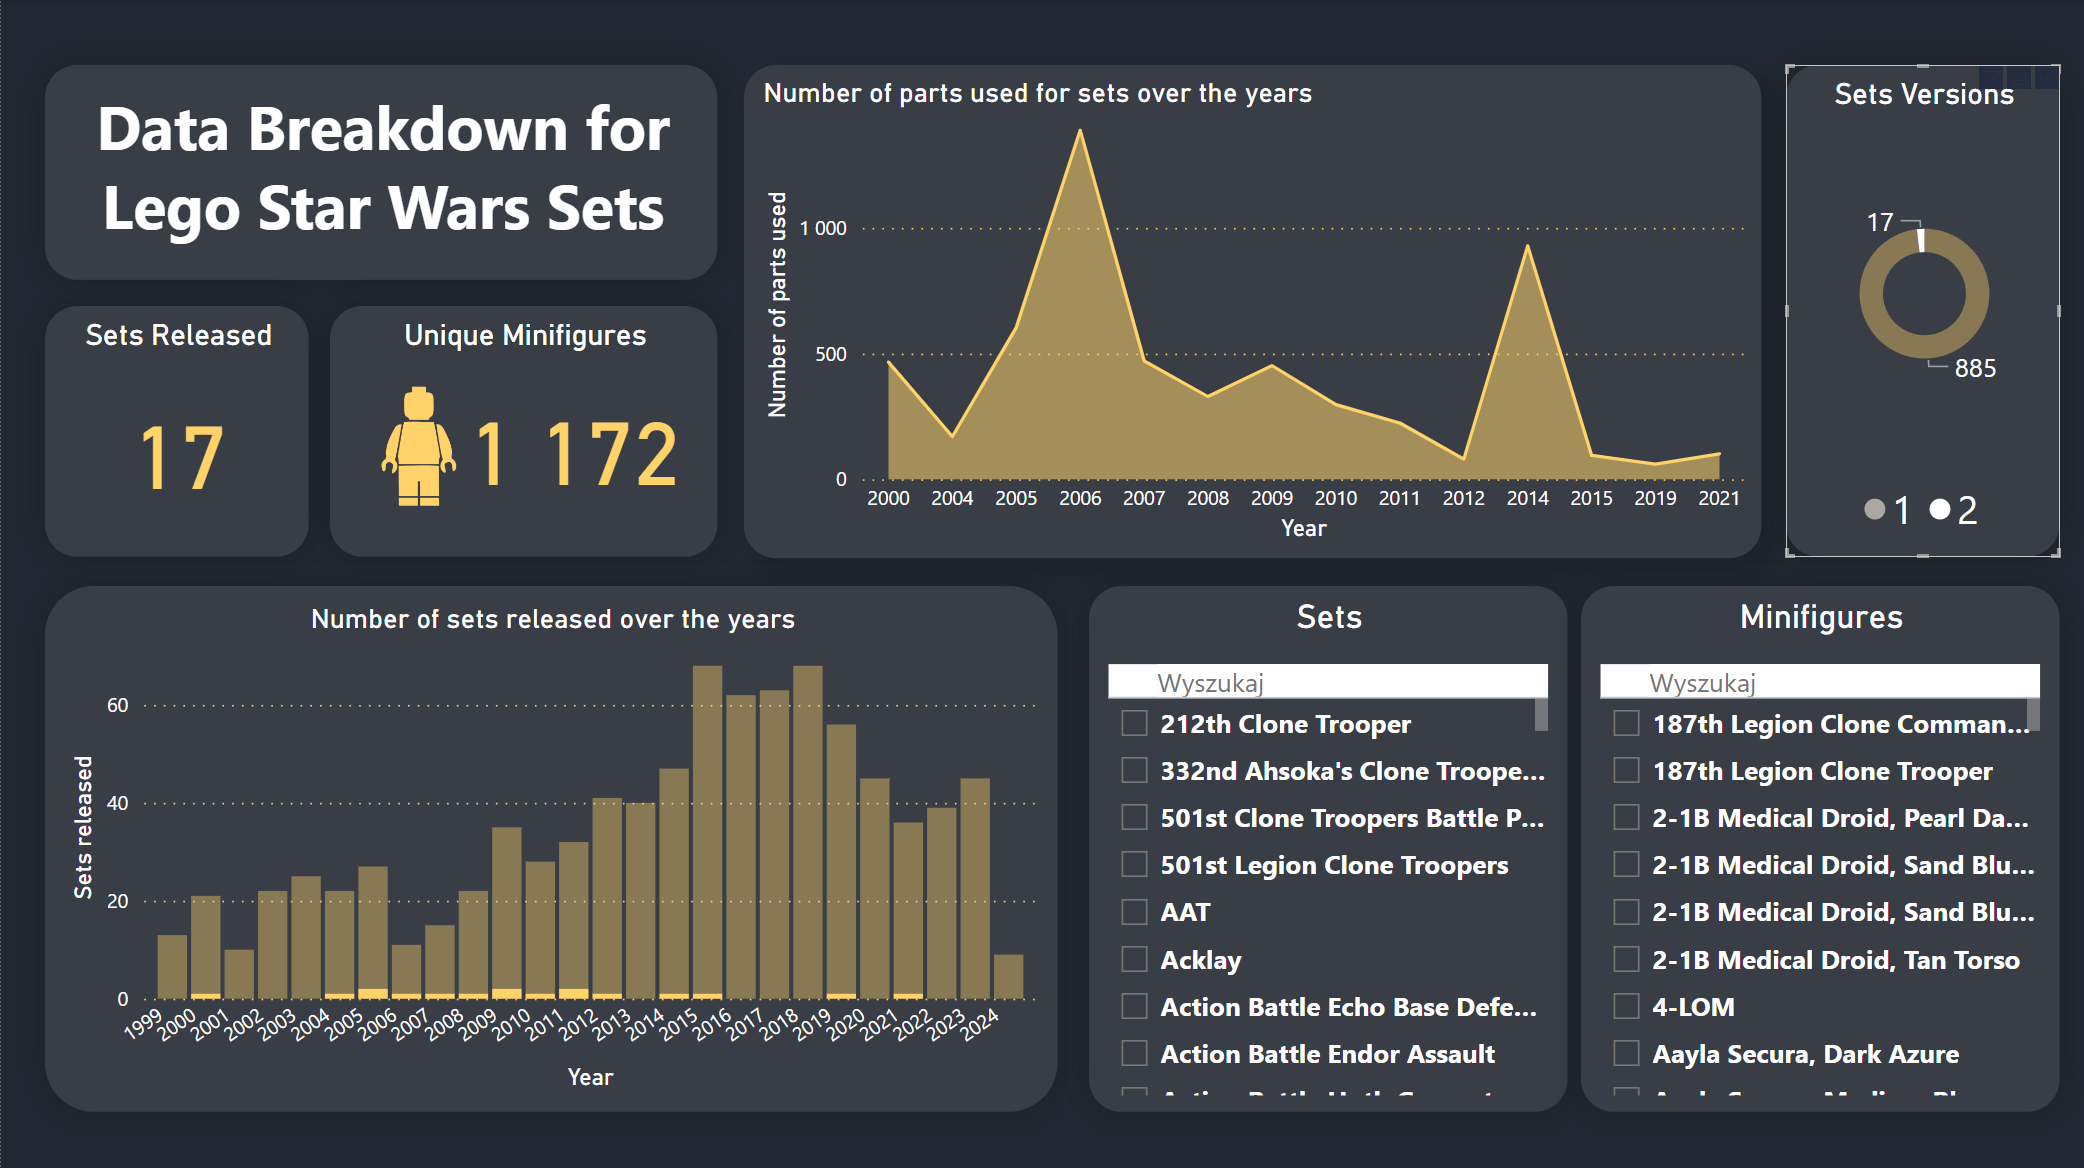

The page's visual inventory and layout, read from the dashboard file:
{"tool":"powerbi","page":{"name":"Strona 1","canvas":[1280,720],"ordinal":0},"visuals":[{"type":"textbox","box":[26.9,40,413.4,132.1],"z":0},{"type":"card","title":"Sets Released","fields":{"Values":["CountNonNull(Inventories.id)"]},"box":[26.9,188.1,162.2,153.6],"z":1000},{"type":"clusteredColumnChart","title":"Number of sets released over the years","fields":{"Category":["Sets.year"],"Y":["CountNonNull(Sets.set_num)"]},"box":[26.9,360.1,622.3,322.5],"z":2000},{"type":"slicer","title":"Sets","fields":{"Values":["Sets.name"]},"box":[668.6,360,293.6,322.9],"z":3000},{"type":"actionButton","box":[-0.1,0.1,100,40],"z":4000},{"type":"cardVisual","title":"Unique Minifigures","fields":{"Data":["CountNonNull(Minifigs.fig_num)"]},"box":[202.4,188.2,238.1,153.8],"z":5000},{"type":"areaChart","title":"Number of parts used for sets over the years","fields":{"Category":["Sets.year"],"Y":["Sum(Sets.num_parts)"]},"box":[456.8,40.1,625,302.5],"z":6000},{"type":"donutChart","title":"Sets Versions","fields":{"Category":["Inventories.version"],"Y":["CountNonNull(Inventories.id)"]},"box":[1096.8,40.1,168.1,301.9],"z":7000},{"type":"slicer","title":"Minifigures","fields":{"Values":["Minifigs.name"]},"box":[970.7,360,293.6,322.9],"z":7001}]}

Visuals, with their boxes in screenshot pixels (x1, y1, x2, y2), scaled from the page's 1280x720 canvas onto the 2084x1168 screenshot:
textbox: x1=44, y1=65, x2=717, y2=279
"Sets Released" card: x1=44, y1=305, x2=308, y2=554
"Number of sets released over the years" clusteredColumnChart: x1=44, y1=584, x2=1057, y2=1107
"Sets" slicer: x1=1089, y1=584, x2=1567, y2=1108
actionButton: x1=0, y1=0, x2=163, y2=65
"Unique Minifigures" cardVisual: x1=330, y1=305, x2=717, y2=555
"Number of parts used for sets over the years" areaChart: x1=744, y1=65, x2=1761, y2=556
"Sets Versions" donutChart: x1=1786, y1=65, x2=2059, y2=555
"Minifigures" slicer: x1=1580, y1=584, x2=2058, y2=1108
